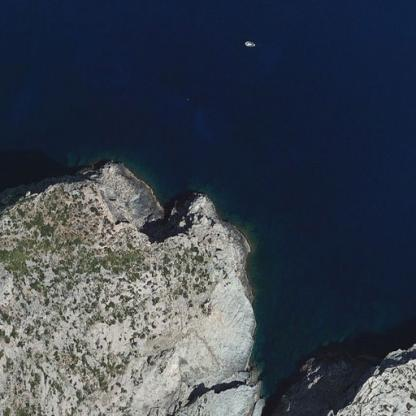ship: (236, 33, 260, 51)
